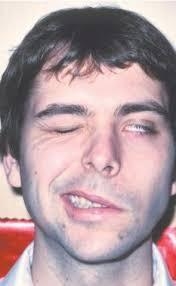strokeEyeSevere: (29, 100, 168, 145)
strokeMouthSevere: (52, 186, 137, 227)
